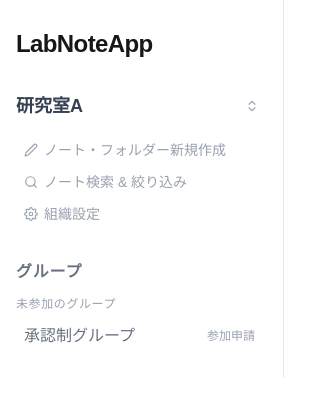
Test: FolderSidebar: 未所属グループの参加フロー › join_method が request のグループは、参加申請すると「参加申請済み」表示に変わる
Click the button "参加申請" at (235, 336), box [207,328,263,344]
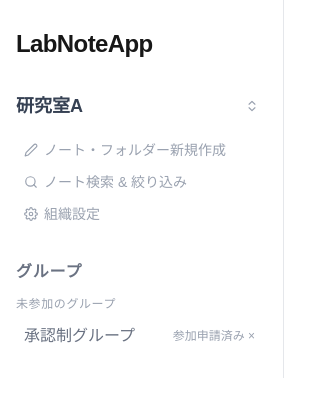
Now the button "参加申請済み ×" is shown, box [173,328,263,344]
